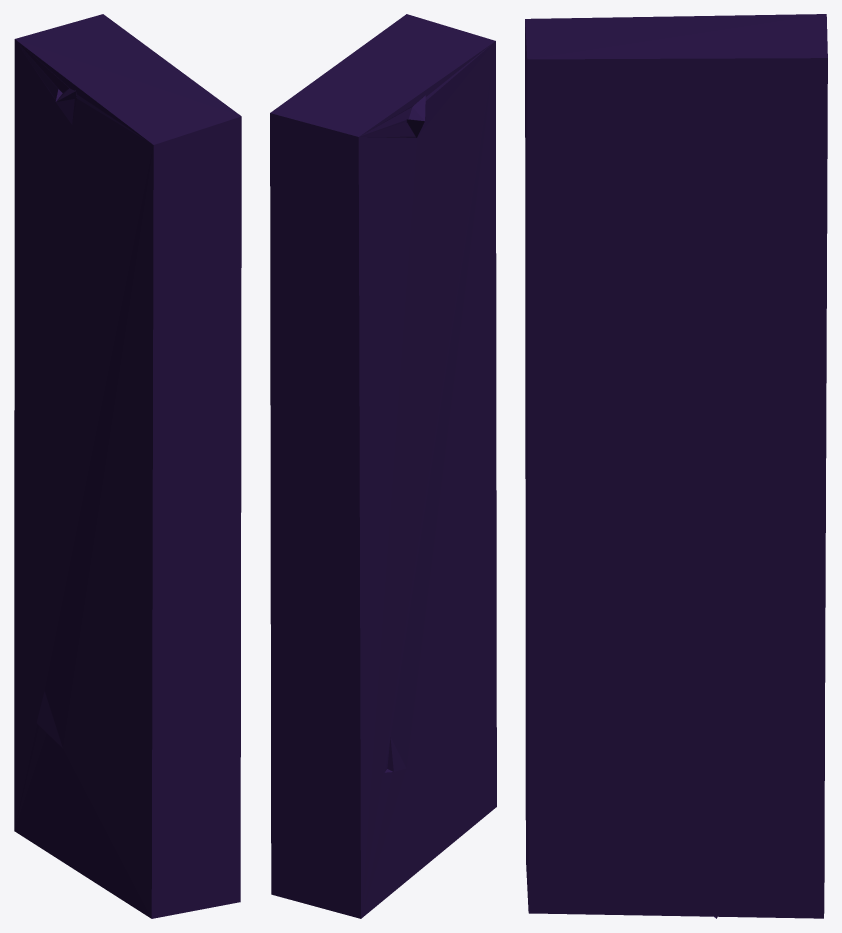
3 renders of one model, left to right at view 1: azimuth 30°, elevation 25°; view 2: azimuth 150°, elevation 25°; view 3: azimuth 270°, elevation 25°, orthographic. The views are drawn at different scales.
Parts seen in each view (by area): view 1: 564_Cube.2272; view 2: 564_Cube.2272; view 3: 564_Cube.2272.
Part boxes in pixels (x1,y1,x2,y2): 564_Cube.2272: (14,14,241,918); 564_Cube.2272: (270,14,496,918); 564_Cube.2272: (525,14,827,918).
Size of the model in its own units: 1.64 by 12.25 by 3.86.
